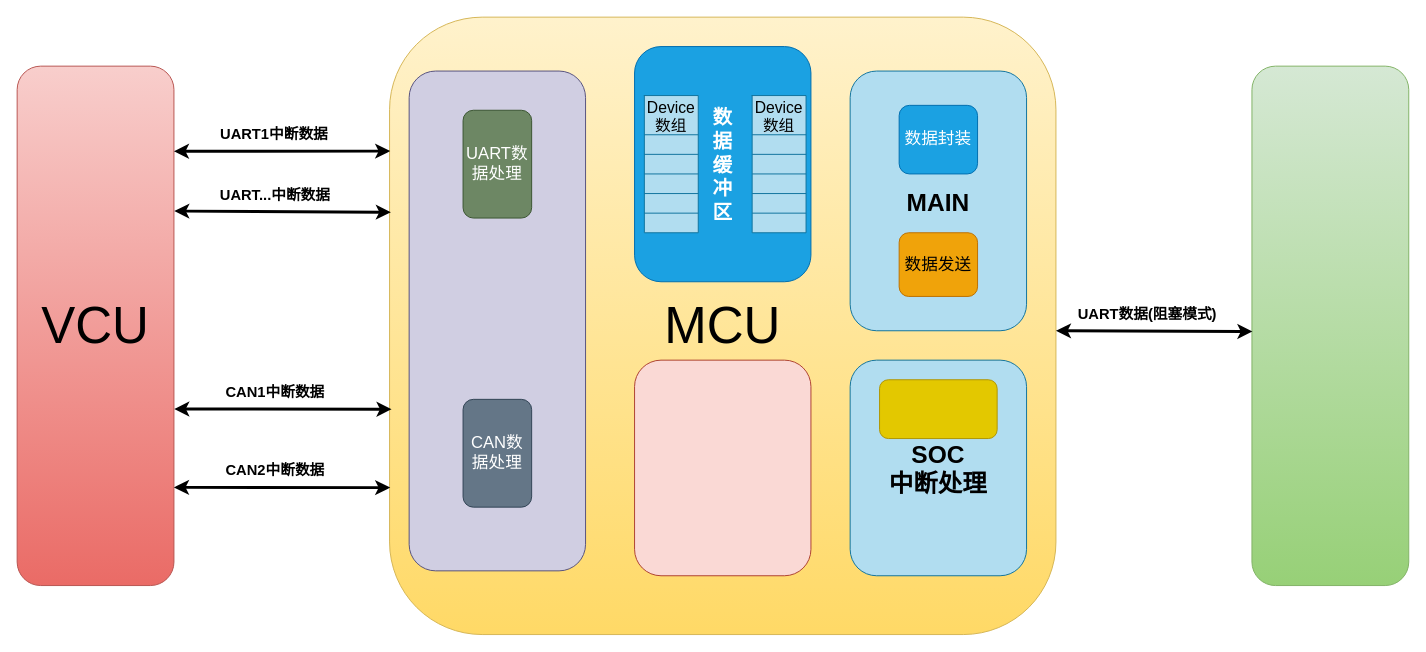
The diagram is 1426 pixels wide and 652 high, and some of its shapes have lost their labels. Each missing label, with the box of its shape:
SOC: (1251, 65, 1409, 586)
VCU 中断处理: (408, 70, 586, 571)
命 令 下 发: (634, 359, 811, 576)
数据接收: (879, 379, 997, 439)
